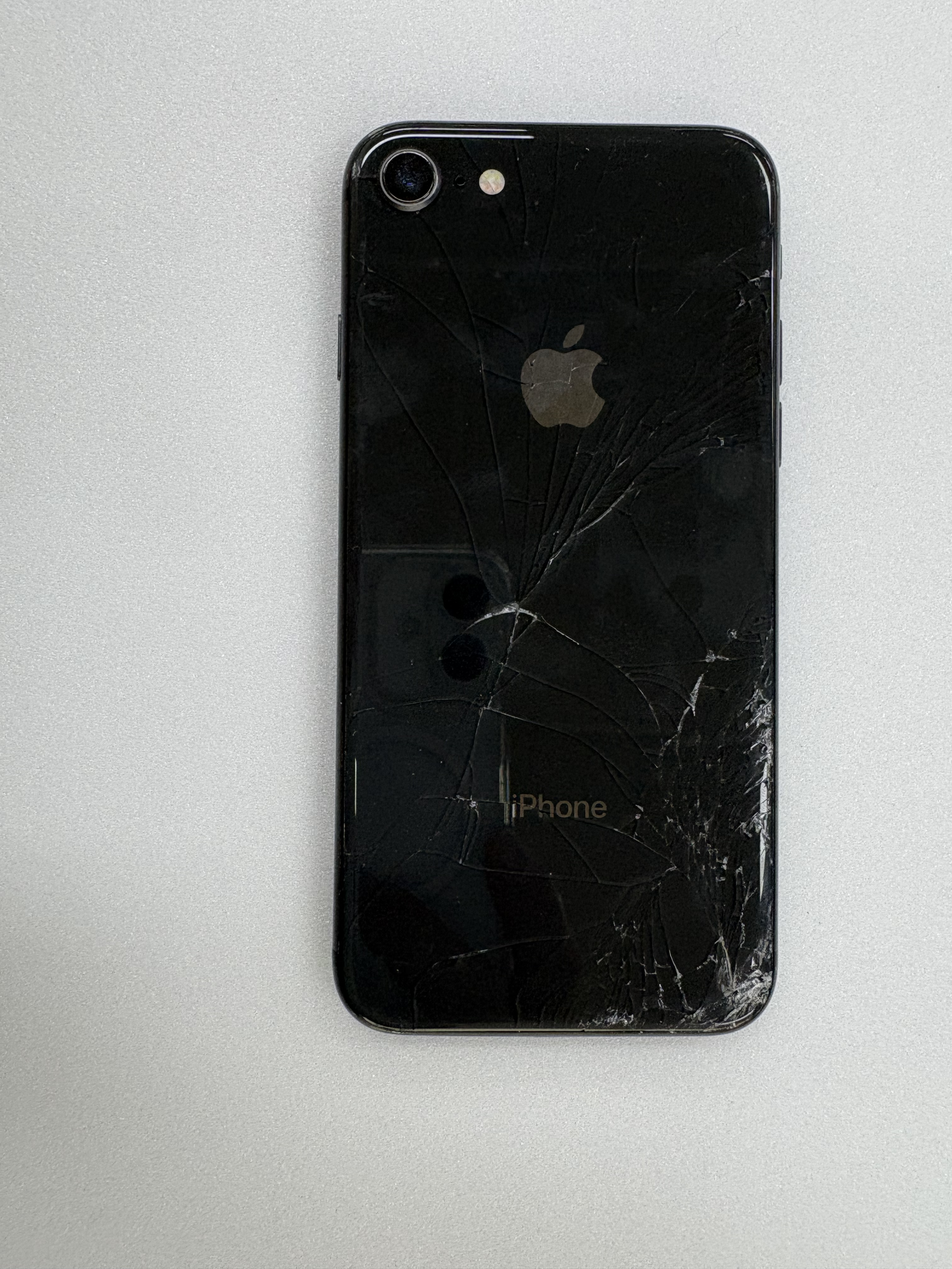crack_phone: (80, 180, 804, 883)
